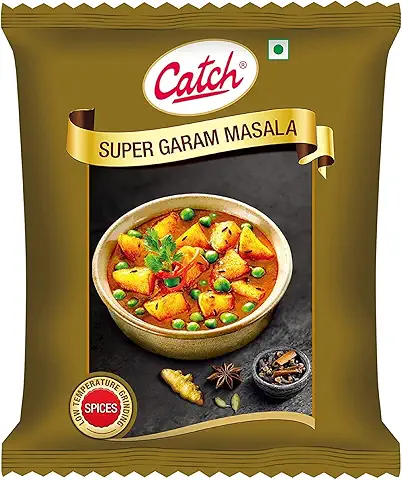Garamasala: (1, 3, 402, 476)
